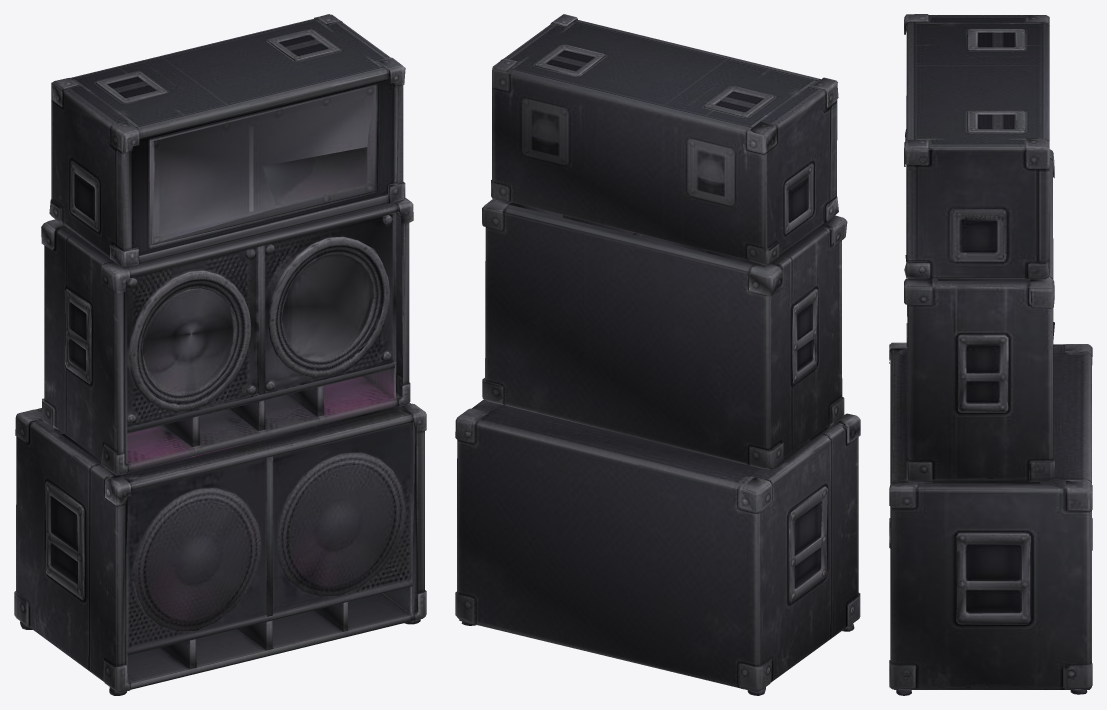
The model's file is speaker_opt.glb.
3 renders of one model, left to right at view 1: azimuth 30°, elevation 25°; view 2: azimuth 150°, elevation 25°; view 3: azimuth 270°, elevation 25°, orthographic. The views are drawn at different scales.
Bounding box in the file's own units: 0.5562 × 0.9517 × 0.3237.
Materials: 1 (1 with a texture image).
